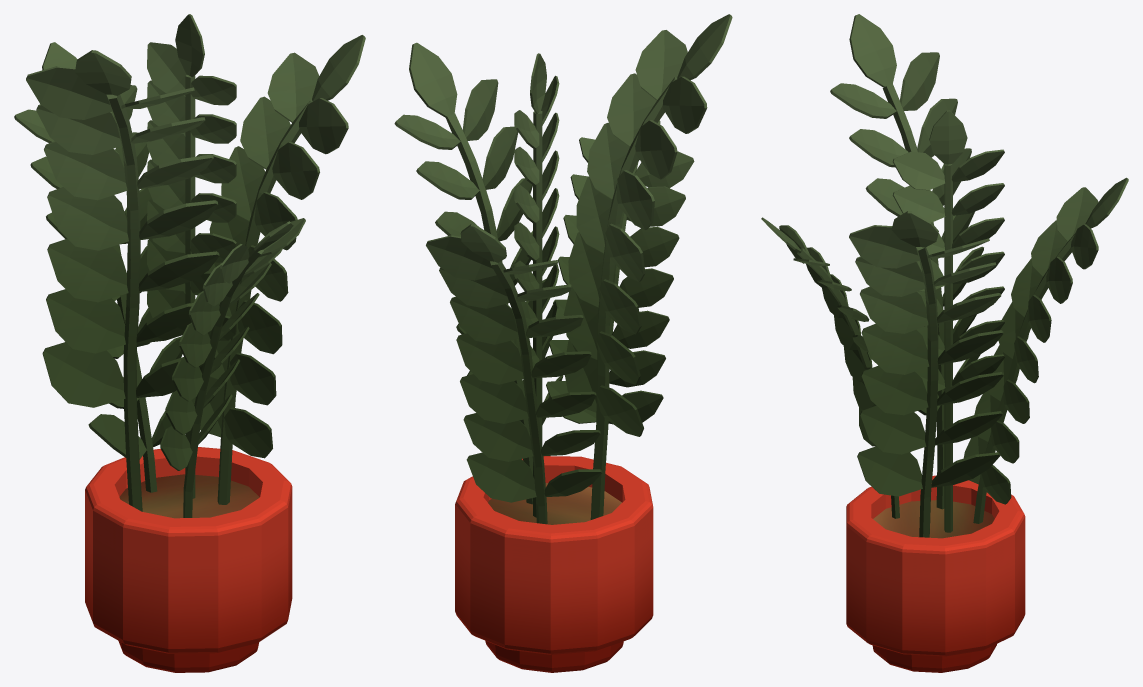
The model's file is zz_plant.fbx.
3 views of the same model, side by side, from view 1: azimuth 30°, elevation 25°; view 2: azimuth 150°, elevation 25°; view 3: azimuth 270°, elevation 25° (orthographic). The views are drawn at different scales.
Visible parts, largest first — view 1: zz_plant; view 2: zz_plant; view 3: zz_plant.
Boxes of the visible parts, bbox=[...] form: zz_plant: bbox=[14, 14, 365, 672]; zz_plant: bbox=[394, 14, 732, 672]; zz_plant: bbox=[761, 14, 1128, 672].
Bounding box in the file's own units: 84.76 × 166 × 95.9.
